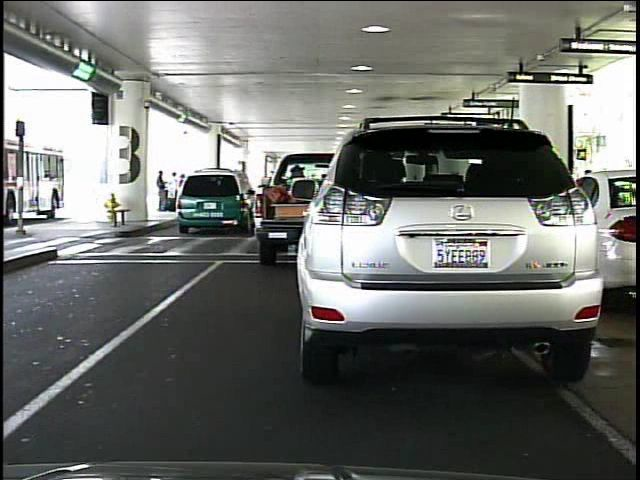person: (152, 163, 173, 216)
